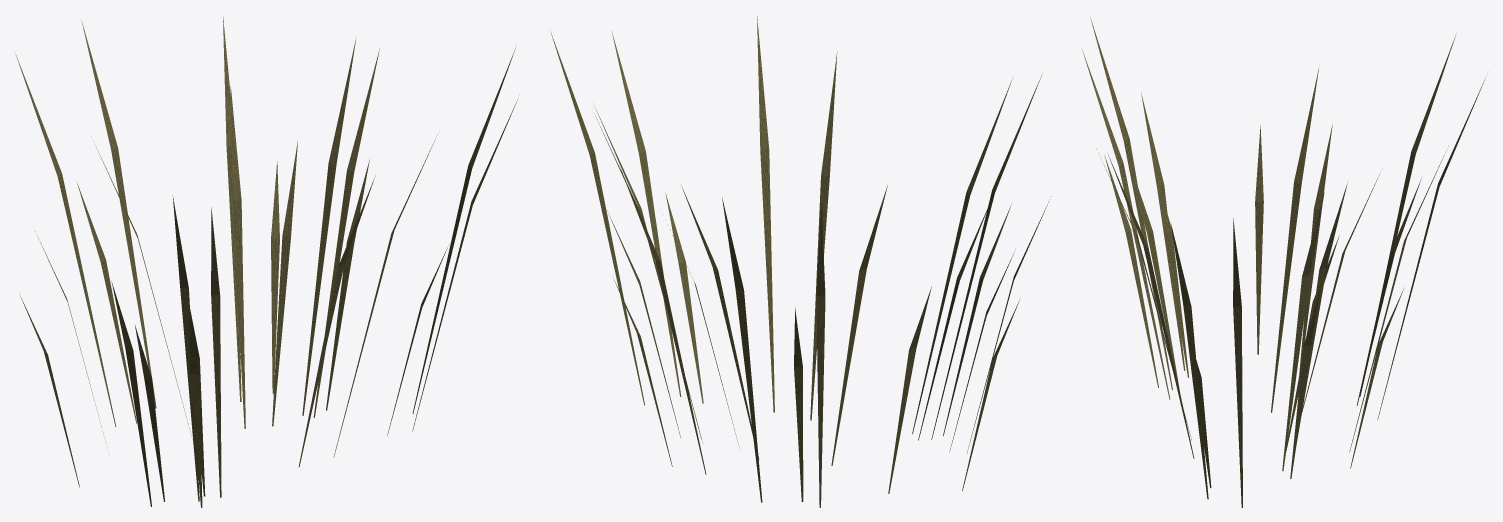
File: env_ground_05_sedge_tall.glb
The picture shows the model from 3 angles, left to right: view 1: azimuth 30°, elevation 25°; view 2: azimuth 150°, elevation 25°; view 3: azimuth 270°, elevation 25°; orthographic projection. The views are drawn at different scales.
Visible parts, largest first — view 1: foliage; view 2: foliage; view 3: foliage.
Part boxes in pixels (bbox=[...]): foliage: bbox=[15, 17, 518, 507]; foliage: bbox=[551, 16, 1051, 507]; foliage: bbox=[1082, 18, 1486, 507].
Size of the model in its own units: 1.11 by 0.7748 by 0.8335.
Materials: 1 (1 with a texture image).
